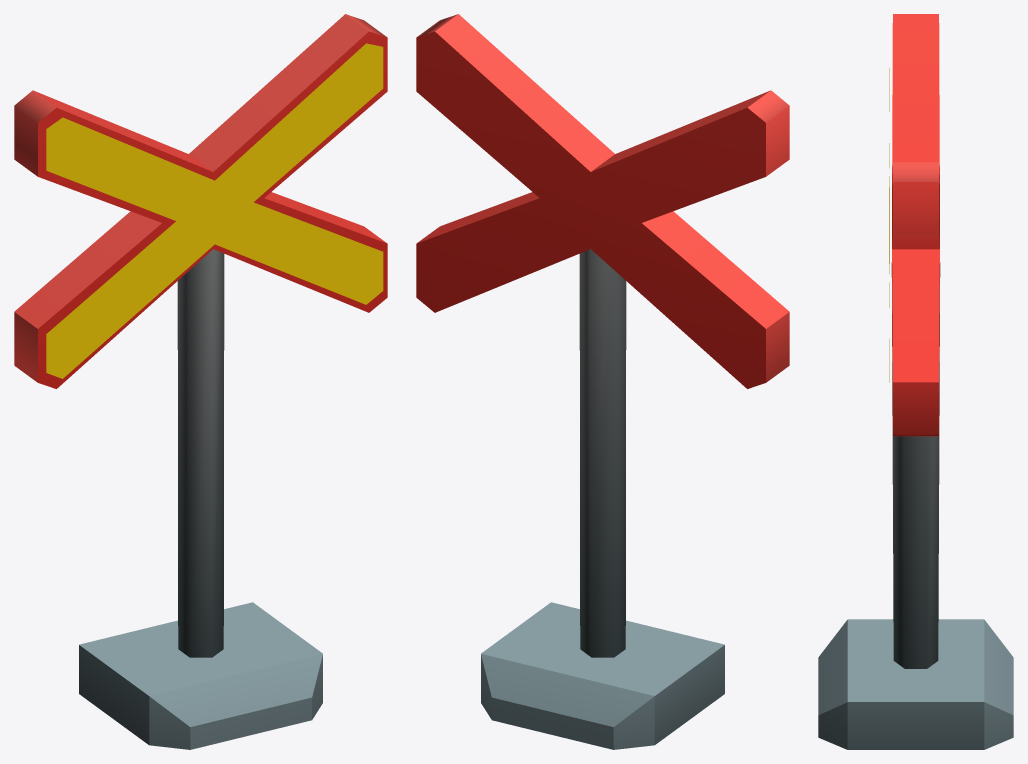
The model's file is Railway_Traffic_Sign.fbx.
The picture shows the model from 3 angles, left to right: view 1: azimuth 30°, elevation 25°; view 2: azimuth 150°, elevation 25°; view 3: azimuth 270°, elevation 25°; orthographic projection. The views are drawn at different scales.
Parts seen in each view (by area): view 1: Railway_Traffic_Sign; view 2: Railway_Traffic_Sign; view 3: Railway_Traffic_Sign.
Part boxes in pixels (<box>): Railway_Traffic_Sign: <box>14,14,387,749</box>; Railway_Traffic_Sign: <box>416,14,789,749</box>; Railway_Traffic_Sign: <box>818,14,1013,749</box>.
Bounding box in the file's own units: 163 × 284 × 81.11.
